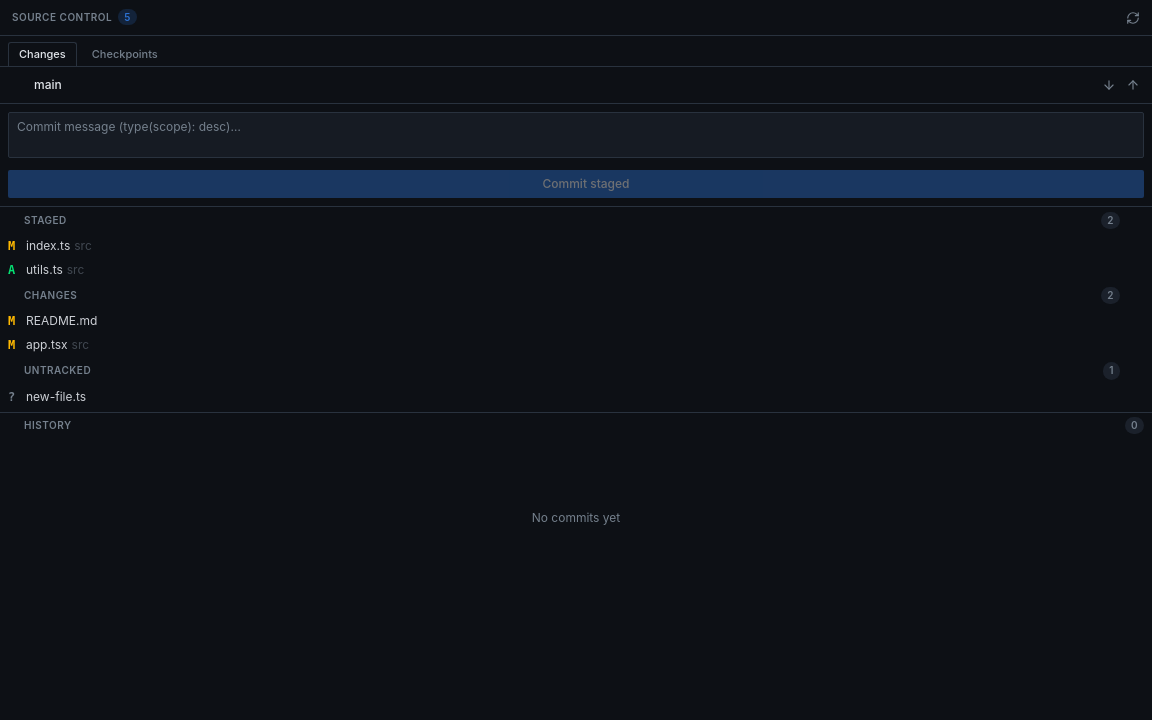
it: GitPane — Diff Preview › shows untracked message when clicking untracked file
Click the text "new-file.ts" at (56, 396), box [26,389,86,404]
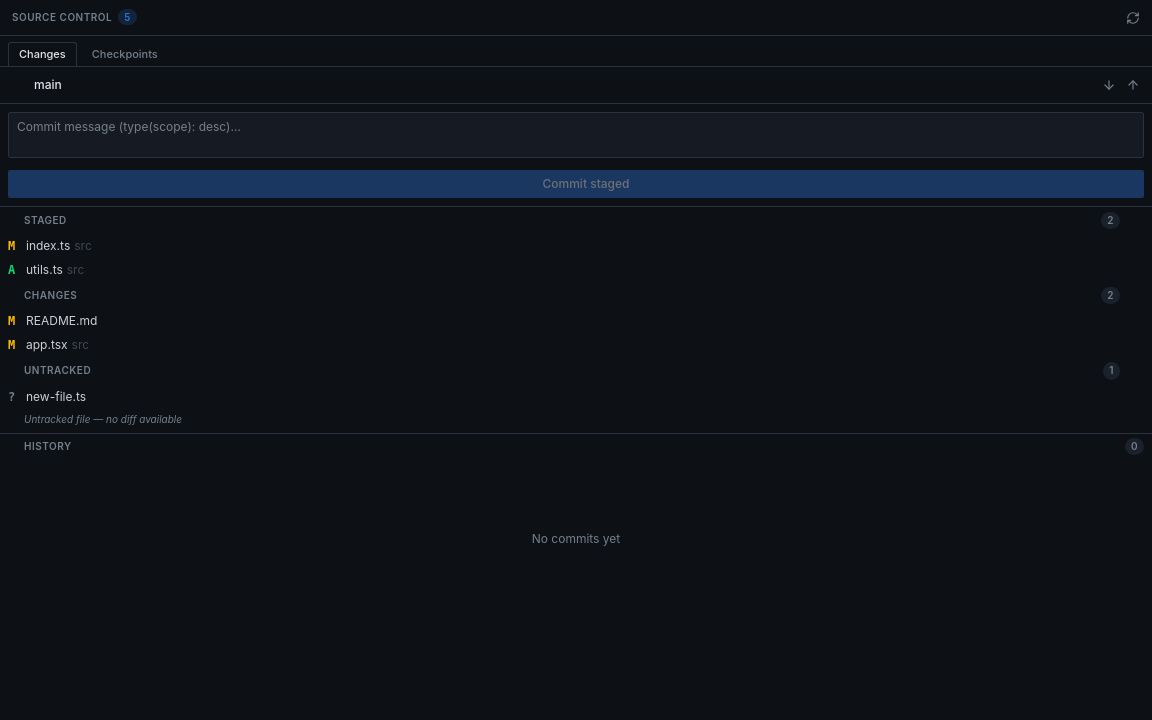
Expected: the text "Untracked file — no diff available" is shown, [24,413,182,425]
